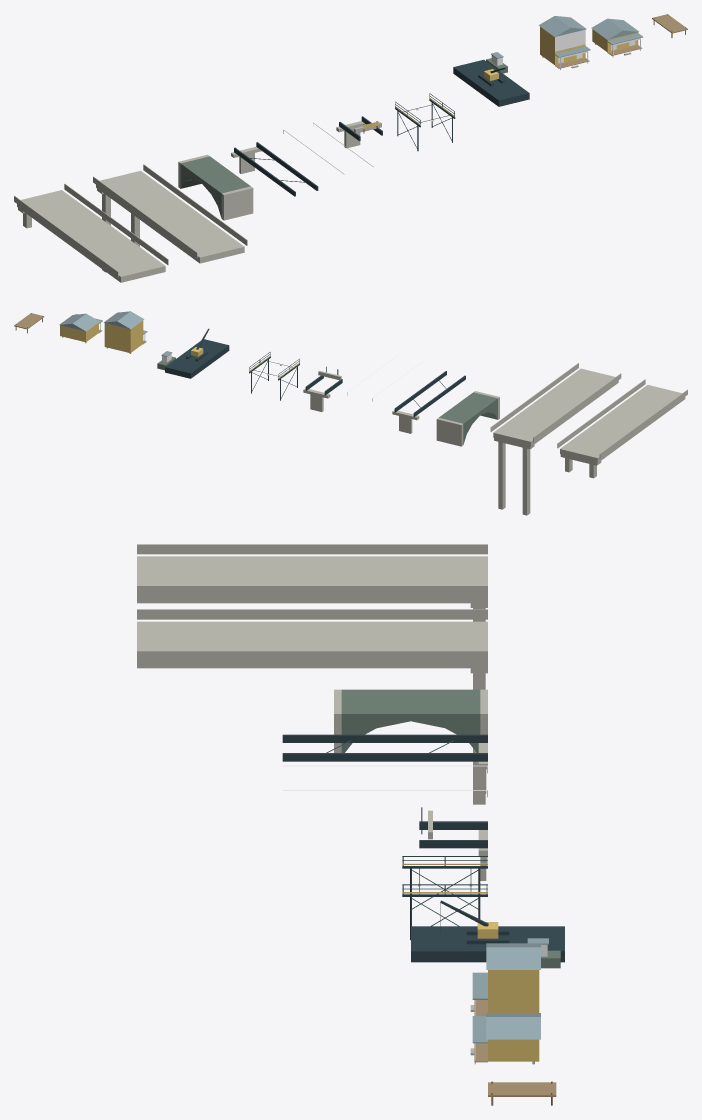
The model's file is seven-mile-kit.glb.
The picture shows the model from 3 angles, top to bottom: view 1: azimuth 30°, elevation 25°; view 2: azimuth 150°, elevation 25°; view 3: azimuth 270°, elevation 25°; orthographic projection. The views are drawn at different scales.
Parts seen in each view (by area): view 1: nsm_bay_tall_body, nsm_bay_body, osm_arch_bay_body, staging_barge_body, pigeon_key_cottage_a_body, pigeon_key_cottage_b_body, osm_girder_bay_body, staging_platform_body, osm_gap_end_body, pigeon_key_cottage_a_upper_windows; view 2: nsm_bay_tall_body, nsm_bay_body, osm_arch_bay_body, staging_barge_body, pigeon_key_cottage_a_body, osm_girder_bay_body, pigeon_key_cottage_b_body, osm_gap_end_body, staging_platform_body; view 3: nsm_bay_tall_body, nsm_bay_body, osm_arch_bay_body, staging_barge_body, pigeon_key_cottage_a_body, osm_girder_bay_body, pigeon_key_cottage_b_body, staging_platform_body, osm_gap_end_body, pigeon_key_dock_body.
Boxes of the visible parts, x1,y1,x2,y2 form: nsm_bay_tall_body: [93, 164, 247, 272]; nsm_bay_body: [14, 183, 168, 282]; osm_arch_bay_body: [178, 154, 253, 220]; staging_barge_body: [453, 52, 529, 106]; pigeon_key_cottage_a_body: [538, 16, 590, 70]; pigeon_key_cottage_b_body: [591, 18, 642, 57]; osm_girder_bay_body: [231, 142, 318, 196]; staging_platform_body: [395, 93, 455, 151]; osm_gap_end_body: [336, 116, 382, 148]; pigeon_key_cottage_a_upper_windows: [555, 29, 585, 51]; nsm_bay_tall_body: [490, 363, 621, 515]; nsm_bay_body: [557, 379, 687, 478]; osm_arch_bay_body: [436, 391, 499, 446]; staging_barge_body: [157, 328, 229, 378]; pigeon_key_cottage_a_body: [104, 311, 147, 353]; osm_girder_bay_body: [392, 371, 465, 433]; pigeon_key_cottage_b_body: [59, 313, 102, 343]; osm_gap_end_body: [303, 366, 342, 411]; staging_platform_body: [249, 352, 299, 400]; nsm_bay_tall_body: [137, 609, 487, 804]; nsm_bay_body: [137, 544, 487, 621]; osm_arch_bay_body: [334, 689, 487, 752]; staging_barge_body: [411, 900, 564, 968]; pigeon_key_cottage_a_body: [470, 943, 540, 1015]; osm_girder_bay_body: [282, 734, 487, 793]; pigeon_key_cottage_b_body: [470, 1013, 540, 1064]; staging_platform_body: [402, 856, 487, 940]; osm_gap_end_body: [419, 807, 487, 880]; pigeon_key_dock_body: [488, 1081, 556, 1105].
Size of the model in its own units: 154 by 27.8 by 50.
